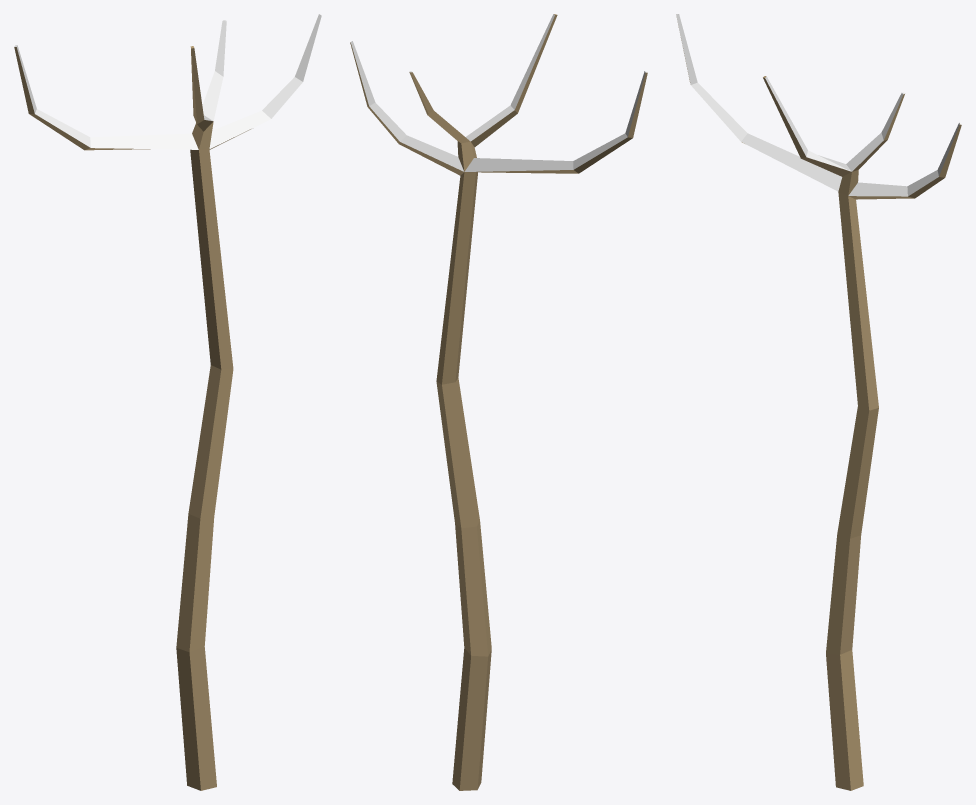
File: Acacia_Tree_NoLeaves_m_Snow_02.fbx
The picture shows the model from 3 angles, left to right: view 1: azimuth 30°, elevation 25°; view 2: azimuth 150°, elevation 25°; view 3: azimuth 330°, elevation 25°; orthographic projection. The views are drawn at different scales.
Visible parts, largest first — view 1: Acacia_Tree_NoLeaves_m_Snow_02; view 2: Acacia_Tree_NoLeaves_m_Snow_02; view 3: Acacia_Tree_NoLeaves_m_Snow_02.
Part boxes in pixels (left/top/right/bottom): Acacia_Tree_NoLeaves_m_Snow_02: left=14, top=14, right=321, bottom=790; Acacia_Tree_NoLeaves_m_Snow_02: left=350, top=14, right=647, bottom=790; Acacia_Tree_NoLeaves_m_Snow_02: left=676, top=14, right=961, bottom=790.
Bounding box in the file's own units: 355 × 865 × 121.
